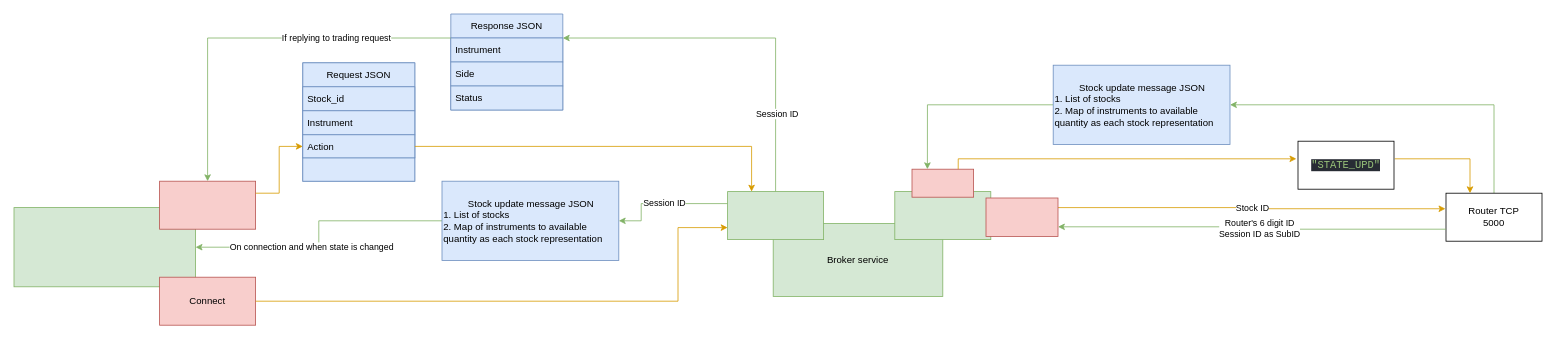
Some shapes in this 1556 by 339 pixel diagram are drawn without their labels. The shapes that lost their labels are listed below. From the top down, each one's centre as x and y in pixels, then its label:
At [358,169]: "Amount".
At [942,182]: "On connection".
At [207,204]: "Send request".
At [775,215]: "WebsocketHandler".
At [942,215]: "Broker-Router TCP Interface".
At [1021,216]: "FIX message transfering".
At [104,247]: "Client".
